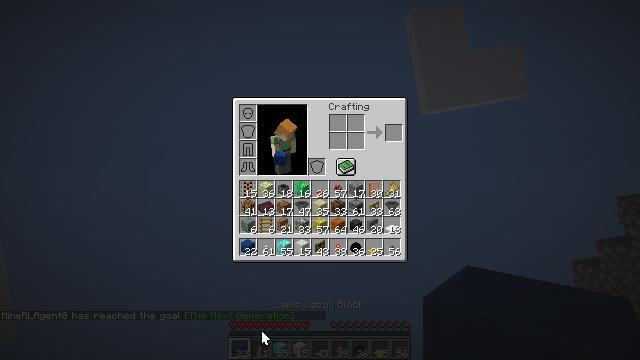cursor: (261, 330, 271, 346)
